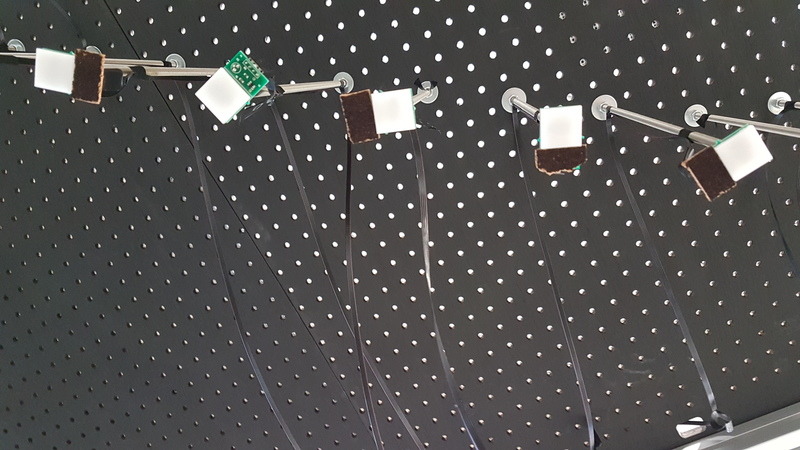target: (715, 125, 774, 183), (195, 67, 252, 125), (538, 103, 584, 152), (371, 87, 416, 137), (34, 48, 77, 95)
